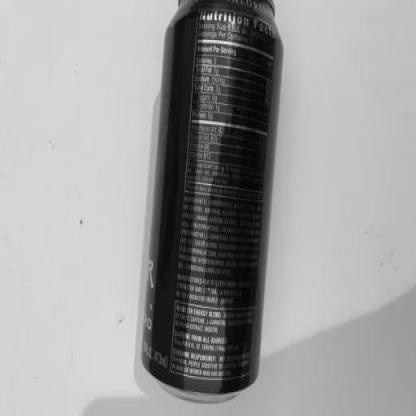alumunium_can: (137, 1, 285, 404)
